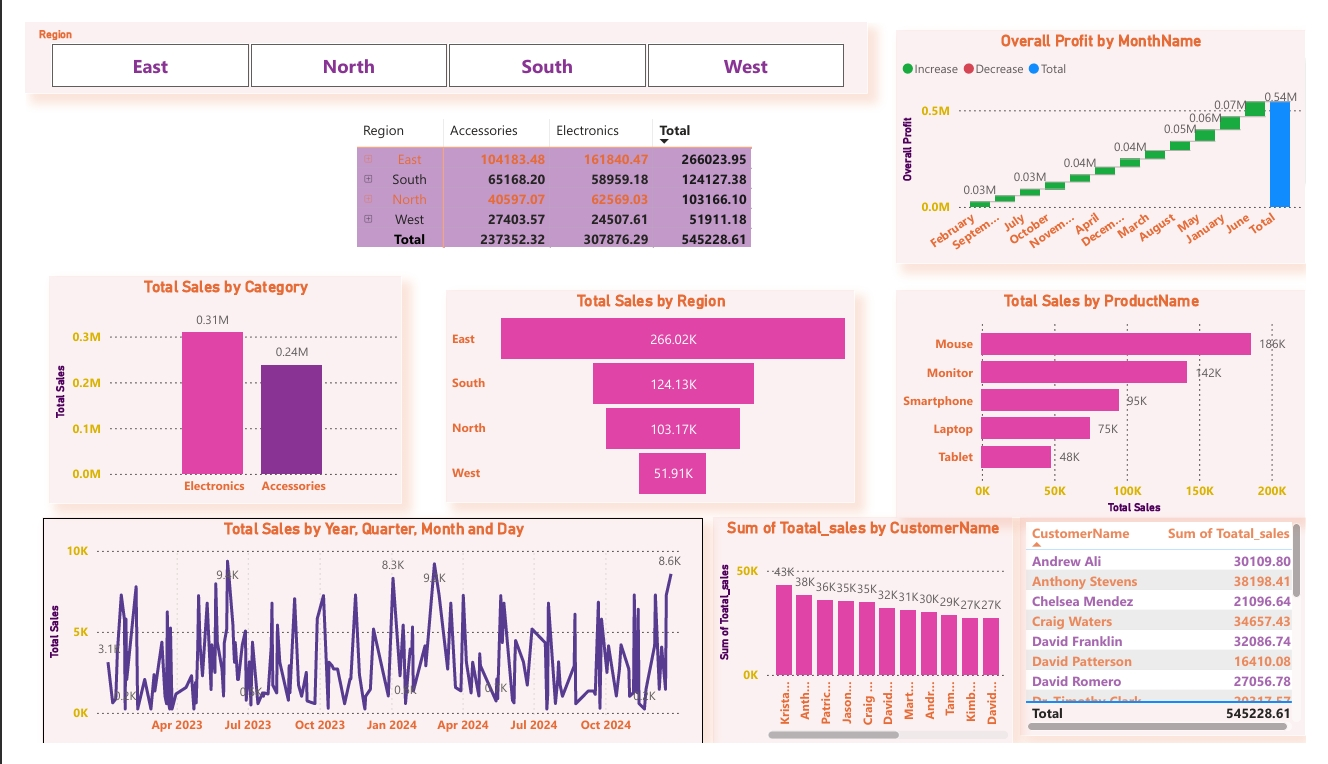

The dashboard page shown, as its layout file describes it:
{"tool":"powerbi","page":{"name":"Page 1","canvas":[1280,720],"ordinal":0},"visuals":[{"type":"columnChart","fields":{"Category":["Dim_Products.Category"],"Y":["Fact_Sales.Total Sales"]},"box":[23.6,253.9,352.7,226.7],"z":0},{"type":"barChart","fields":{"Category":["Dim_Products.ProductName"],"Y":["Fact_Sales.Total Sales"]},"box":[871.4,267.7,408.6,227.4],"z":1000},{"type":"lineChart","fields":{"Category":["Dim_Date.Date.Variation.Date Hierarchy.Year","Dim_Date.Date.Variation.Date Hierarchy.Quarter","Dim_Date.Date.Variation.Date Hierarchy.Month","Dim_Date.Date.Variation.Date Hierarchy.Day"],"Y":["Fact_Sales.Total Sales"]},"box":[17.1,495.1,660.1,225.4],"z":2000},{"type":"funnel","fields":{"Category":["Dim_Customers.Region"],"Y":["Fact_Sales.Total Sales"]},"box":[420.6,267.7,408.6,212.3],"z":3000},{"type":"waterfallChart","fields":{"Category":["Dim_Date.MonthName"],"Y":["Fact_Sales.Overall Profit"]},"box":[871.4,8.2,409,233],"z":4000},{"type":"slicer","fields":{"Values":["Dim_Customers.Region"]},"box":[0,0,841.5,70.7],"z":5000},{"type":"pivotTable","fields":{"Columns":["Dim_Products.Category"],"Rows":["Dim_Customers.Region","Dim_Products.ProductName"],"Values":["Fact_Sales.Total Sales"]},"box":[327,91.6,420.6,140.9],"z":7000},{"type":"tableEx","fields":{"Values":["Dim_Customers.CustomerName","Sum(Fact_Sales.Toatal_sales)"]},"box":[995.2,495.1,284.8,218.4],"z":8000},{"type":"columnChart","fields":{"Category":["Dim_Customers.CustomerName"],"Y":["Sum(Fact_Sales.Toatal_sales)"]},"box":[688.3,495.1,298.9,225.4],"z":9000}]}

Visuals, with their boxes in screenshot pixels (x1, y1, x2, y2), scaled from the page's 1280x720 canvas onto the 1328x764 screenshot:
columnChart - Dim_Products.Category x Fact_Sales.Total Sales: bbox(24, 269, 390, 510)
barChart - Dim_Products.ProductName x Fact_Sales.Total Sales: bbox(904, 284, 1327, 525)
lineChart - Dim_Date.Date.Variation.Date Hierarchy.Year x Dim_Date.Date.Variation.Date Hierarchy.Quarter: bbox(18, 525, 703, 763)
funnel - Dim_Customers.Region x Fact_Sales.Total Sales: bbox(436, 284, 860, 509)
waterfallChart - Dim_Date.MonthName x Fact_Sales.Overall Profit: bbox(904, 9, 1327, 256)
slicer - Dim_Customers.Region: bbox(0, 0, 873, 75)
pivotTable - Dim_Products.Category x Dim_Customers.Region: bbox(339, 97, 776, 247)
tableEx - Dim_Customers.CustomerName x Sum(Fact_Sales.Toatal_sales): bbox(1033, 525, 1327, 757)
columnChart - Dim_Customers.CustomerName x Sum(Fact_Sales.Toatal_sales): bbox(714, 525, 1024, 763)
